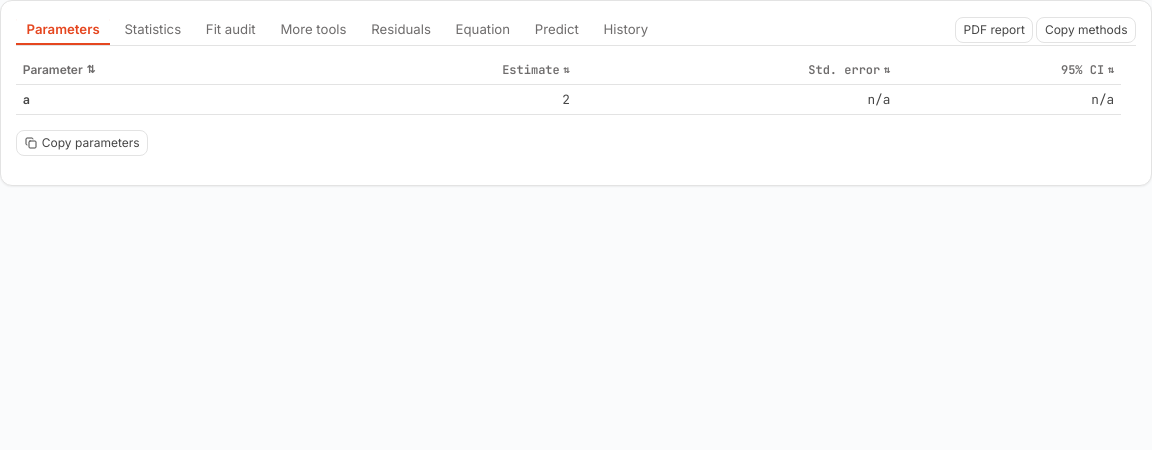
PredictTab inline validation › shows 'every x value must be a finite number' for a non-numeric entry
Click the tab "Predict".
click(557, 30)  # box x1=524 y1=14 x2=589 y2=45
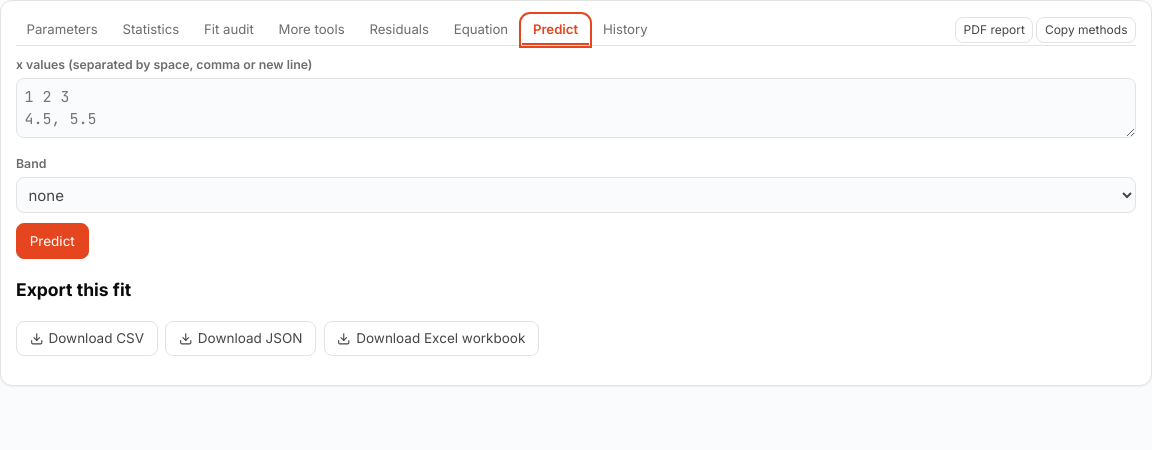
Type "5 10 abc" into the text box labelled "x values (separated by space, comma or new line)".
click(576, 108); type("5 10 abc")  # box x1=16 y1=78 x2=1136 y2=138
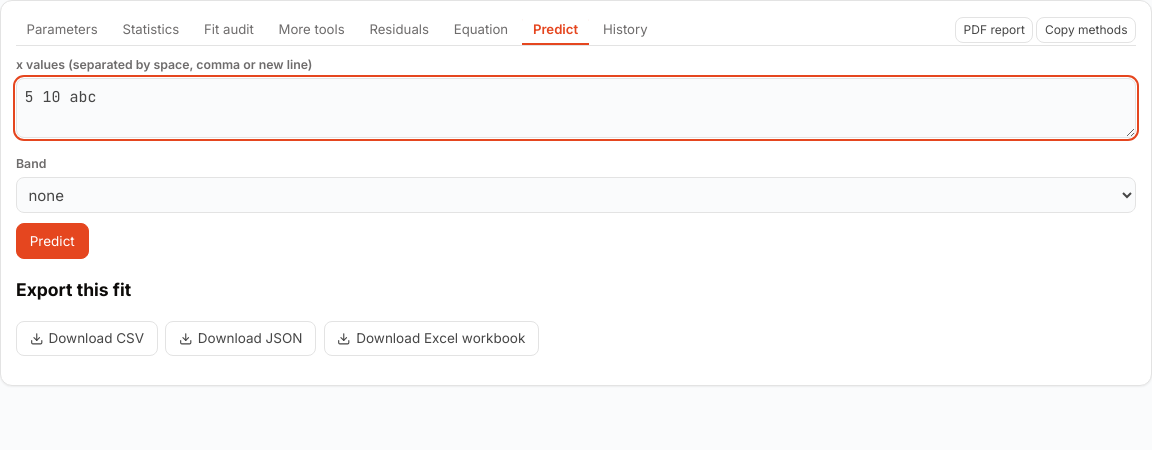
Click the button "Predict".
click(52, 241)  # box x1=16 y1=223 x2=88 y2=259
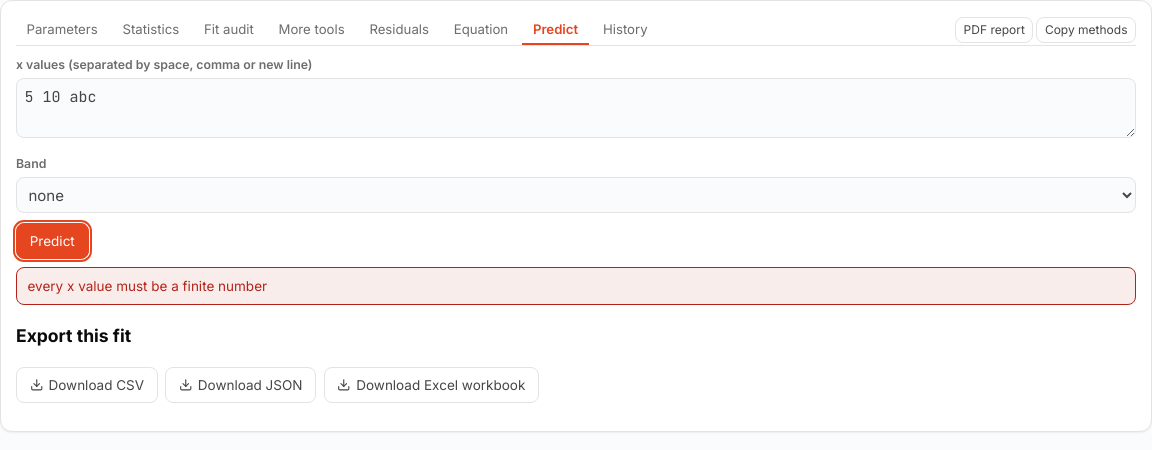
Check: the message reads "every x value must be a finite number", box x1=28 y1=278 x2=267 y2=294
